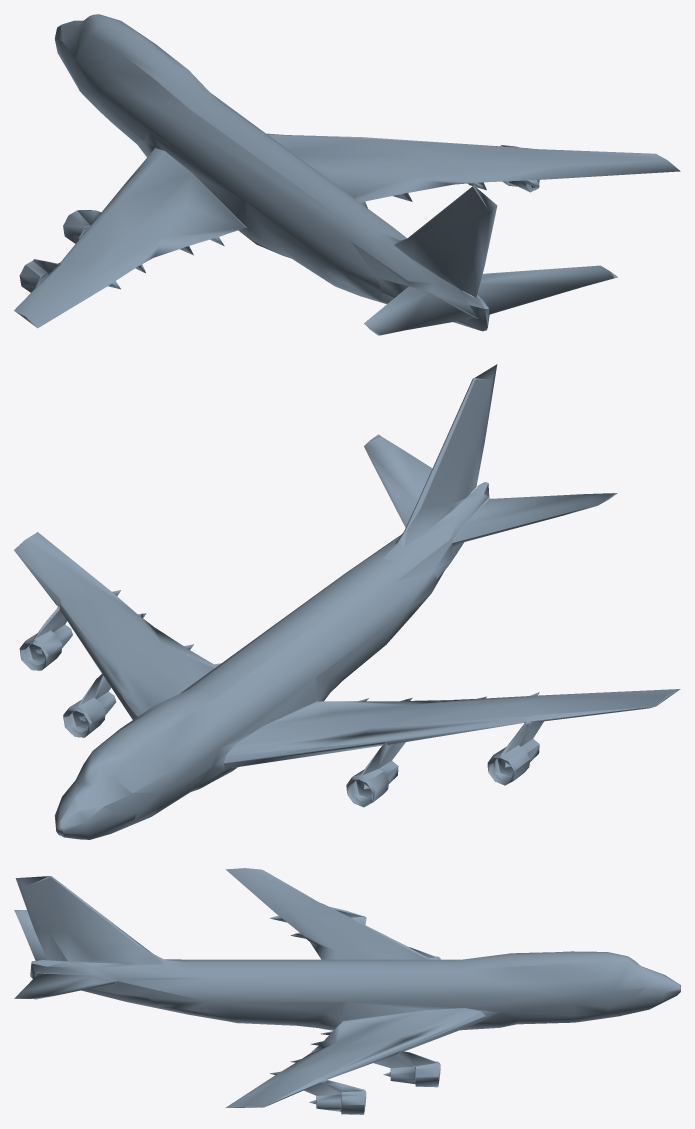
3 views of the same model, one above another, from view 1: azimuth 30°, elevation 25°; view 2: azimuth 150°, elevation 25°; view 3: azimuth 270°, elevation 25° (orthographic). The views are drawn at different scales.
Parts seen in each view (by area): view 1: body; view 2: body; view 3: body.
Boxes of the visible parts, left/top/right/bottom form: body: left=14, top=14, right=680, bottom=335; body: left=14, top=364, right=680, bottom=839; body: left=14, top=868, right=680, bottom=1114.
Size of the model in its own units: 43.6 by 13.44 by 51.52.
